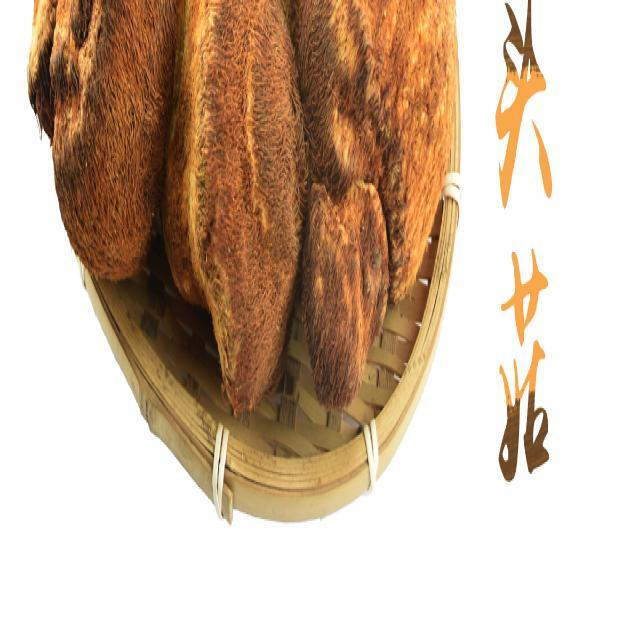Hericium erinaceus: (297, 0, 454, 410), (165, 0, 306, 404), (28, 0, 174, 283)
